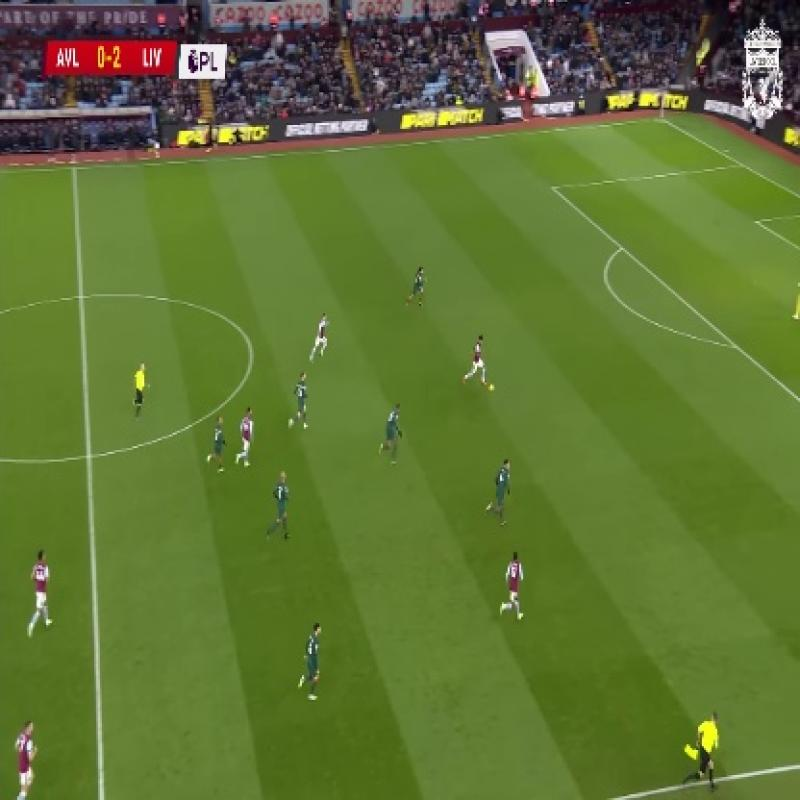1: (648, 110, 667, 125)
10: (611, 237, 629, 258)
11: (724, 332, 742, 356)
13: (64, 156, 82, 177)
14: (68, 280, 94, 312)
15: (75, 434, 102, 474)
2: (732, 156, 748, 174)
7: (746, 210, 764, 231)
9: (542, 175, 560, 198)
c: (236, 334, 270, 374)
